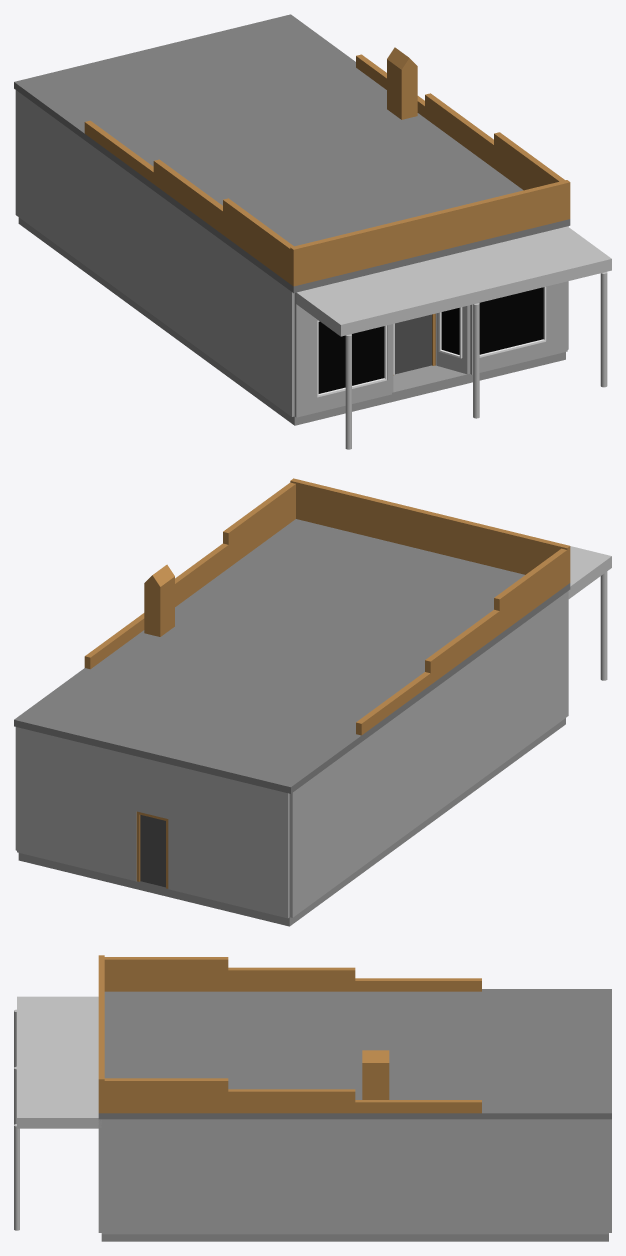
File: building_phase_1b_iter_012.glb
The picture shows the model from 3 angles, top to bottom: view 1: azimuth 30°, elevation 25°; view 2: azimuth 150°, elevation 25°; view 3: azimuth 270°, elevation 25°; orthographic projection. The views are drawn at different scales.
Visible parts, largest first — view 1: Roof, Wall_Left, Canopy_Roof, Parapet_Front, Wall_Front, Foundation, Front_Left_Window_Glass, Front_Right_Window_Glass, Parapet_Left_Level_1, Parapet_Right_Level_1, Parapet_Left_Level_2, Parapet_Right_Level_2 (+10 smaller); view 2: Roof, Wall_Left, Wall_Rear, Parapet_Front, Foundation, Parapet_Left_Level_1, Parapet_Right_Level_1, Parapet_Left_Level_2, Rear_Service_Door_Panel, Parapet_Right_Level_2, Chimney, Canopy_Roof (+3 smaller); view 3: Wall_Right, Roof, Canopy_Roof, Parapet_Right_Level_1, Parapet_Left_Level_1, Foundation, Parapet_Left_Level_2, Parapet_Right_Level_2, Parapet_Left_Level_3, Parapet_Right_Level_3, Parapet_Front, Chimney (+2 smaller).
Boxes of the visible parts, x1,y1,x2,y2 form: Roof: [14, 14, 570, 293]; Wall_Left: [15, 90, 294, 416]; Canopy_Roof: [296, 226, 611, 336]; Parapet_Front: [290, 180, 570, 286]; Wall_Front: [294, 281, 567, 417]; Foundation: [18, 217, 565, 425]; Front_Left_Window_Glass: [318, 321, 384, 393]; Front_Right_Window_Glass: [479, 287, 543, 354]; Parapet_Left_Level_1: [223, 198, 293, 283]; Parapet_Right_Level_1: [494, 132, 564, 190]; Parapet_Left_Level_2: [153, 159, 222, 234]; Parapet_Right_Level_2: [425, 93, 493, 168]; Roof: [14, 519, 570, 793]; Wall_Left: [289, 591, 568, 917]; Wall_Rear: [17, 727, 289, 918]; Parapet_Front: [290, 478, 570, 584]; Foundation: [18, 718, 565, 926]; Parapet_Left_Level_1: [494, 548, 567, 633]; Parapet_Right_Level_1: [223, 482, 295, 567]; Parapet_Left_Level_2: [425, 609, 499, 684]; Rear_Service_Door_Panel: [140, 815, 165, 887]; Parapet_Right_Level_2: [175, 543, 228, 606]; Chimney: [144, 576, 174, 636]; Canopy_Roof: [568, 546, 611, 598]; Wall_Right: [101, 1119, 608, 1234]; Roof: [98, 989, 611, 1119]; Canopy_Roof: [17, 996, 101, 1128]; Parapet_Right_Level_1: [101, 1078, 228, 1113]; Parapet_Left_Level_1: [104, 957, 228, 991]; Foundation: [101, 1234, 608, 1241]; Parapet_Left_Level_2: [228, 967, 355, 991]; Parapet_Right_Level_2: [228, 1089, 355, 1113]; Parapet_Left_Level_3: [355, 978, 481, 991]; Parapet_Right_Level_3: [355, 1100, 481, 1113]; Parapet_Front: [98, 955, 104, 1113]; Chimney: [362, 1063, 389, 1099].
Bounding box in the file's own units: 8.68 × 6.03 × 17.68.
